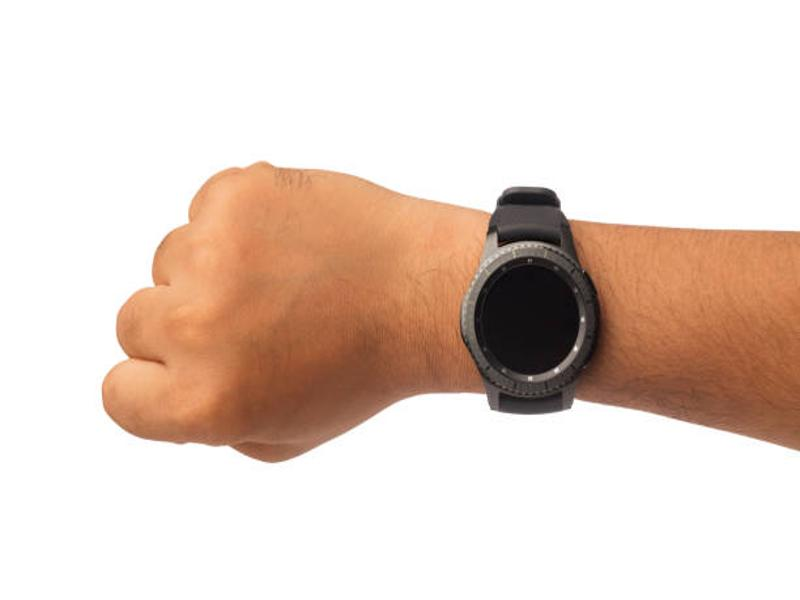watch: (458, 176, 608, 423)
